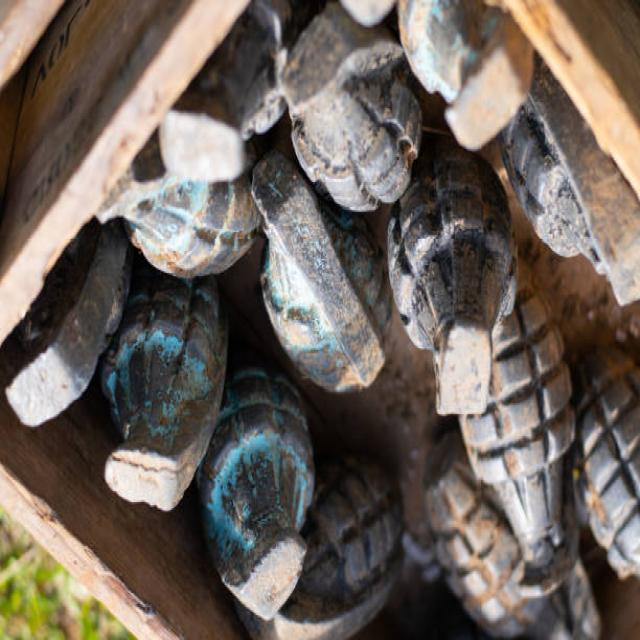grenade: (453, 254, 583, 600), (389, 145, 517, 423), (255, 156, 399, 396), (200, 366, 320, 611)
